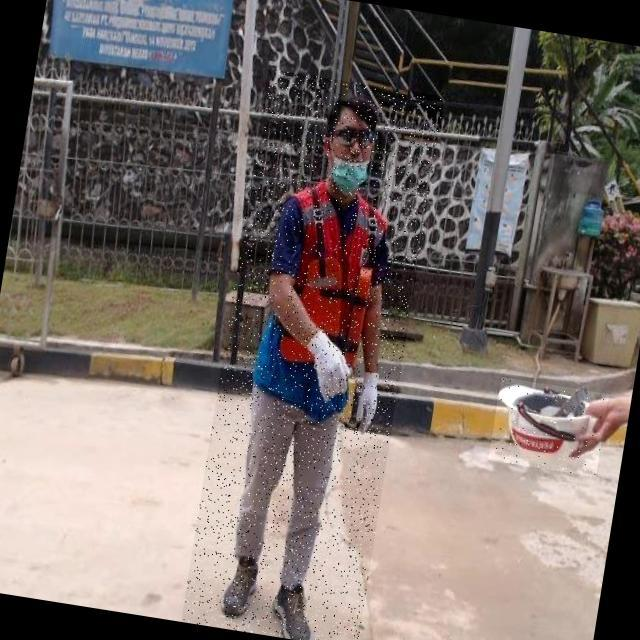Helmet: (488, 377, 609, 477)
Human: (181, 69, 444, 640)
Safety Boot: (265, 578, 319, 640), (219, 552, 264, 622)
Safety Vest: (251, 170, 392, 417)
